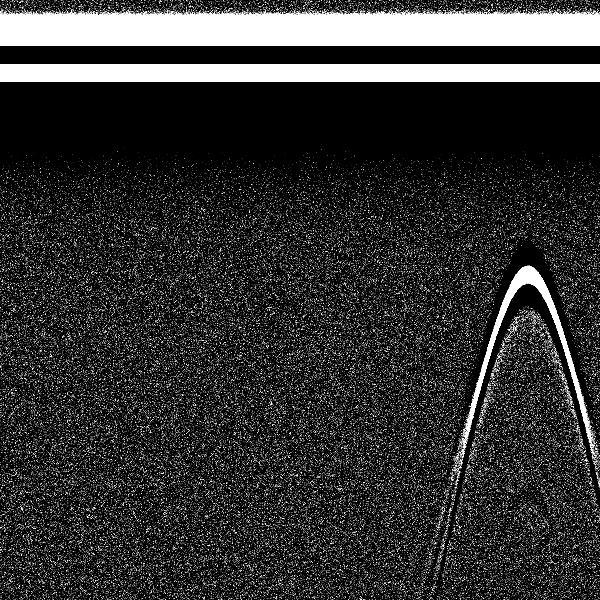pipe: (479, 5, 575, 343)
